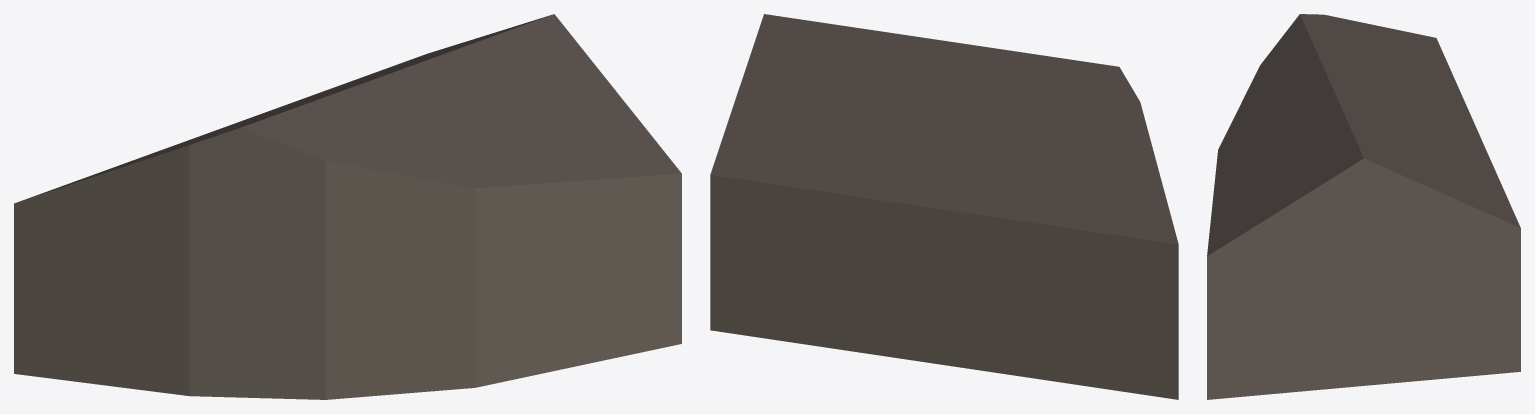
3 renders of one model, left to right at view 1: azimuth 30°, elevation 25°; view 2: azimuth 150°, elevation 25°; view 3: azimuth 270°, elevation 25°, orthographic. The views are drawn at different scales.
Visible parts, largest first — view 1: HP-w378107143; view 2: HP-w378107143; view 3: HP-w378107143.
Boxes of the visible parts, left/top/right/bottom form: HP-w378107143: left=14, top=14, right=681, bottom=399; HP-w378107143: left=710, top=14, right=1178, bottom=399; HP-w378107143: left=1207, top=14, right=1520, bottom=399.
Size of the model in its own units: 29.38 by 14.26 by 17.84.
